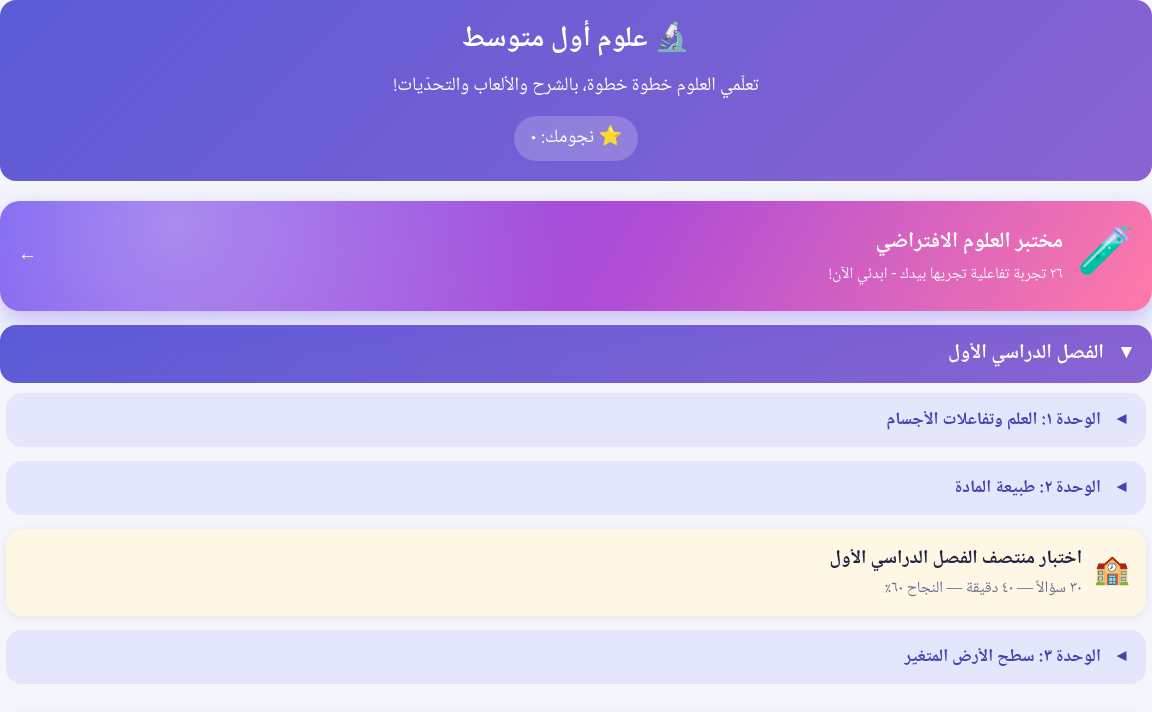
الصفحة الرئيسية القابلة للطي › طيّ الفصل الدراسي يخفي كل شيء تحته بما فيه اختباراه
Click the button "▾ الفصل الدراسي الأول" at (1026, 354), box left=0, top=324, right=1151, bottom=382
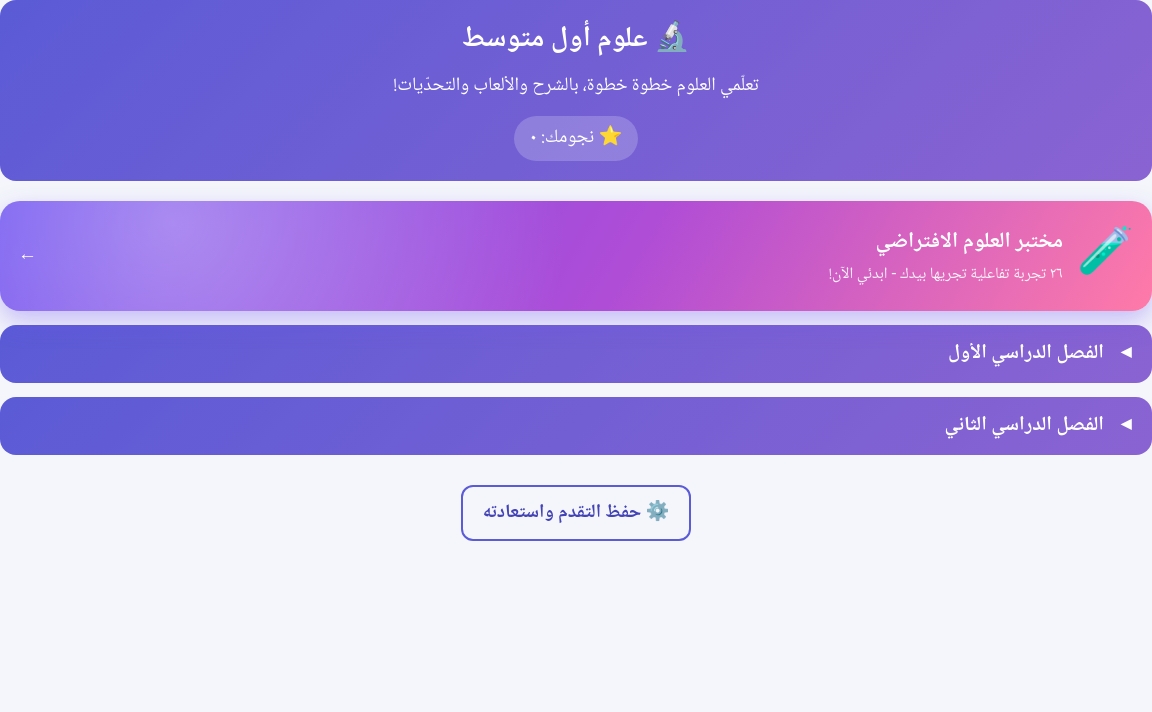
Expected: the button "العلم وتفاعلات الأجسام" is gone
Expected: the button "اختبار منتصف الفصل الدراسي الأول" is gone
